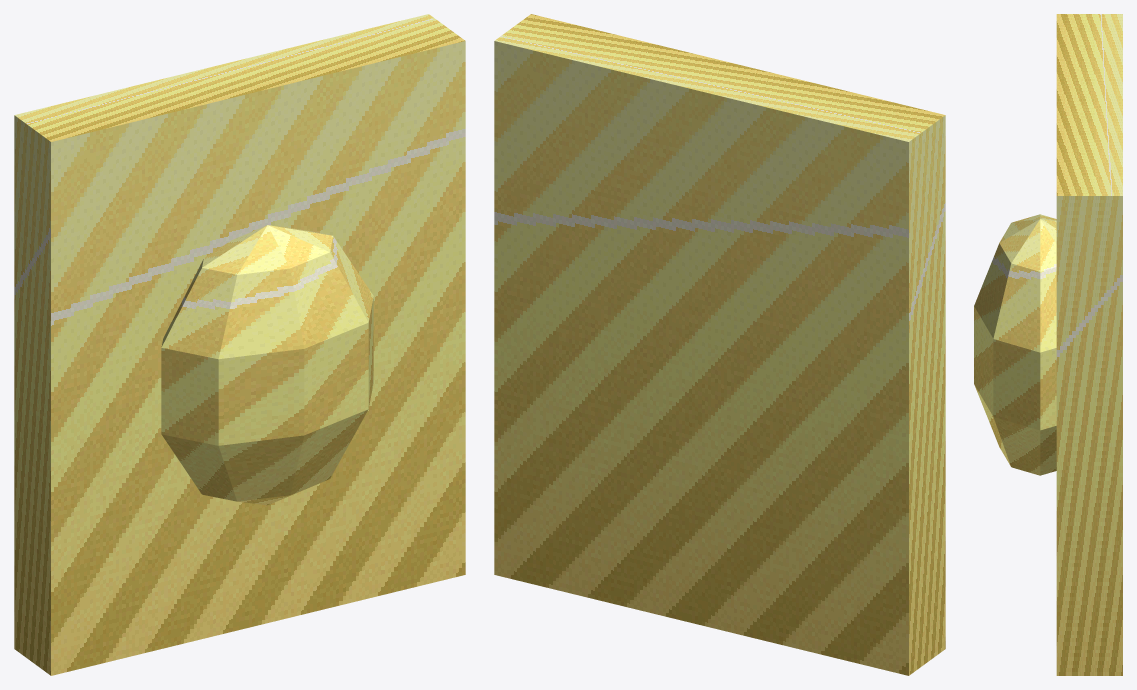
The model's file is reliquia_sagrada_16.glb.
The picture shows the model from 3 angles, left to right: view 1: azimuth 30°, elevation 25°; view 2: azimuth 150°, elevation 25°; view 3: azimuth 270°, elevation 25°; orthographic projection. The views are drawn at different scales.
Visible parts, largest first — view 1: reliquia_sagrada_16; view 2: reliquia_sagrada_16; view 3: reliquia_sagrada_16.
Boxes of the visible parts, <box> form: reliquia_sagrada_16: <box>14,14,465,675</box>; reliquia_sagrada_16: <box>494,14,945,675</box>; reliquia_sagrada_16: <box>974,14,1122,675</box>.
Bounding box in the file's own units: 0.52 × 0.64 × 0.1799.
Materials: 1 (1 with a texture image).
